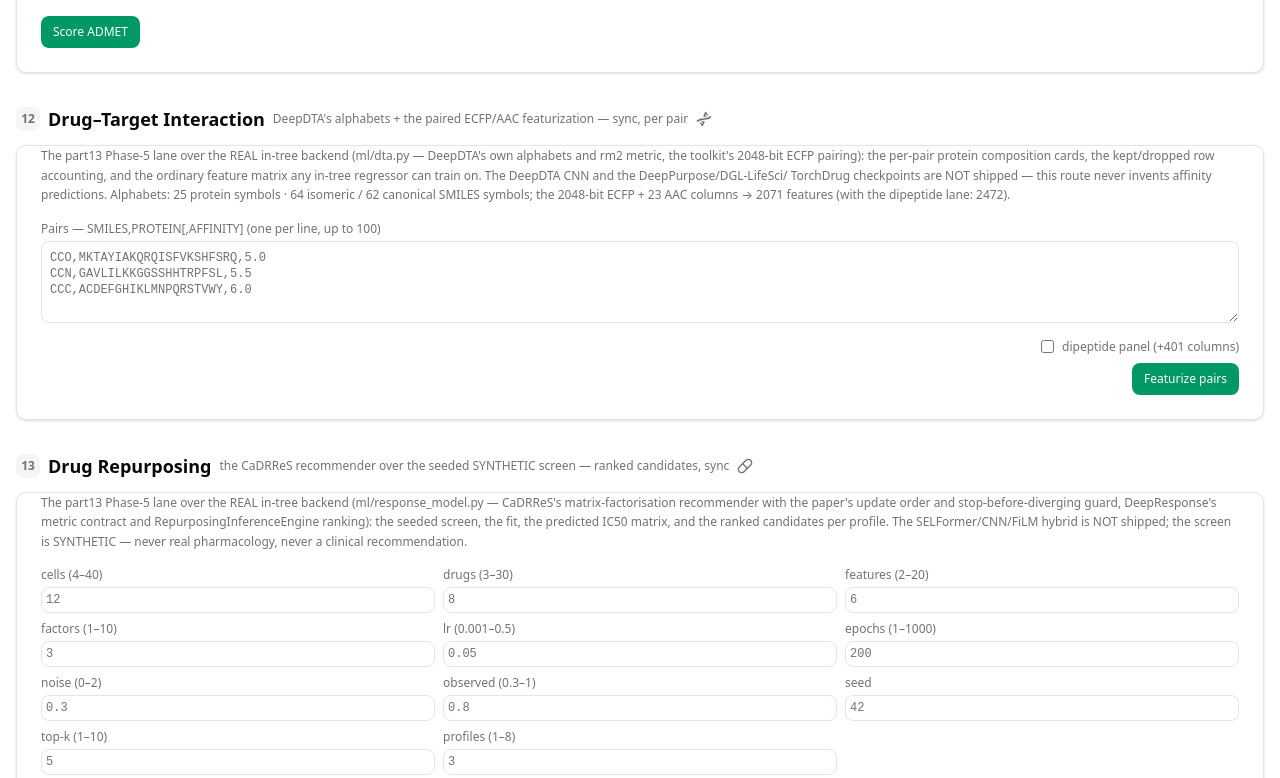
Test case: the drug–target interaction lane of the Machine Learning workspace › surfaces the backend's own hard 422 verbatim through the banner
This screenshot has width=1280, height=778.
(page scrolled)
Click the button "Featurize pairs".
click(1186, 379)  # box [1132,363,1239,395]
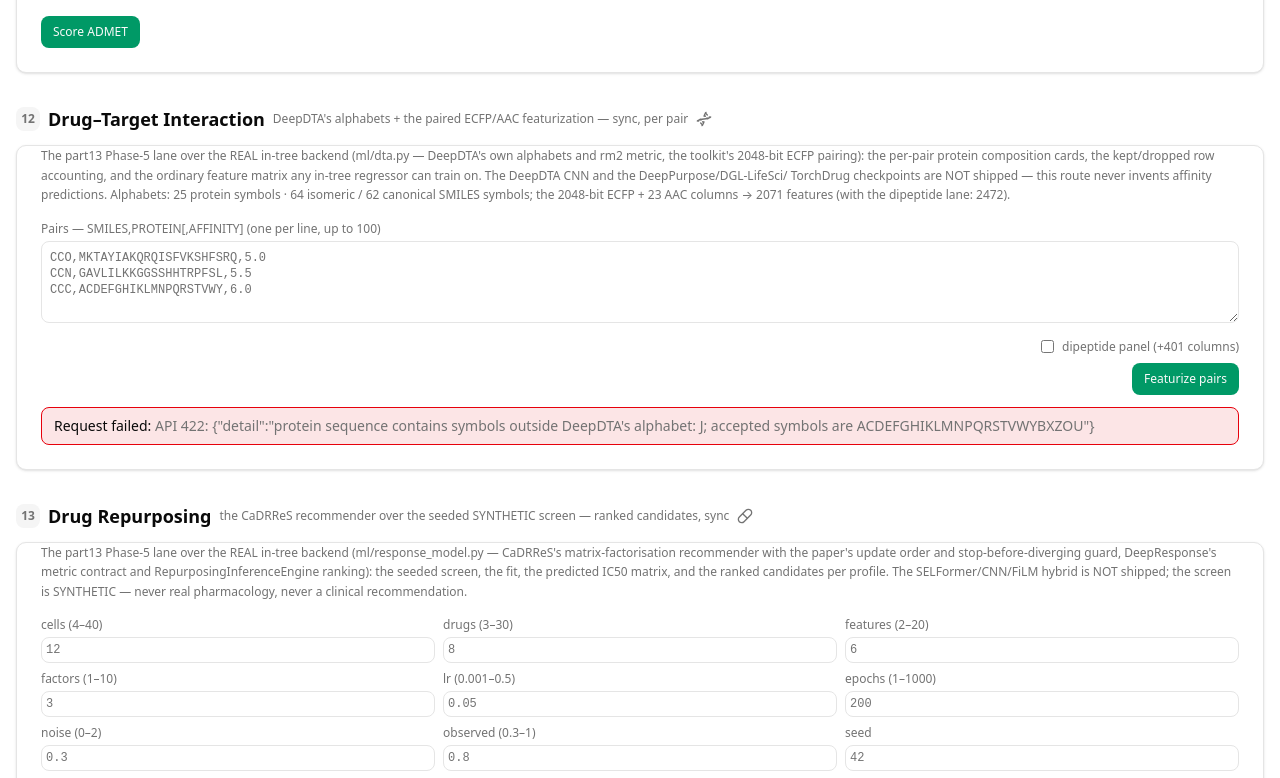
Check: the text "symbols outside DeepDTA's alphabet: J" is shown, box [155,416,1094,435]
